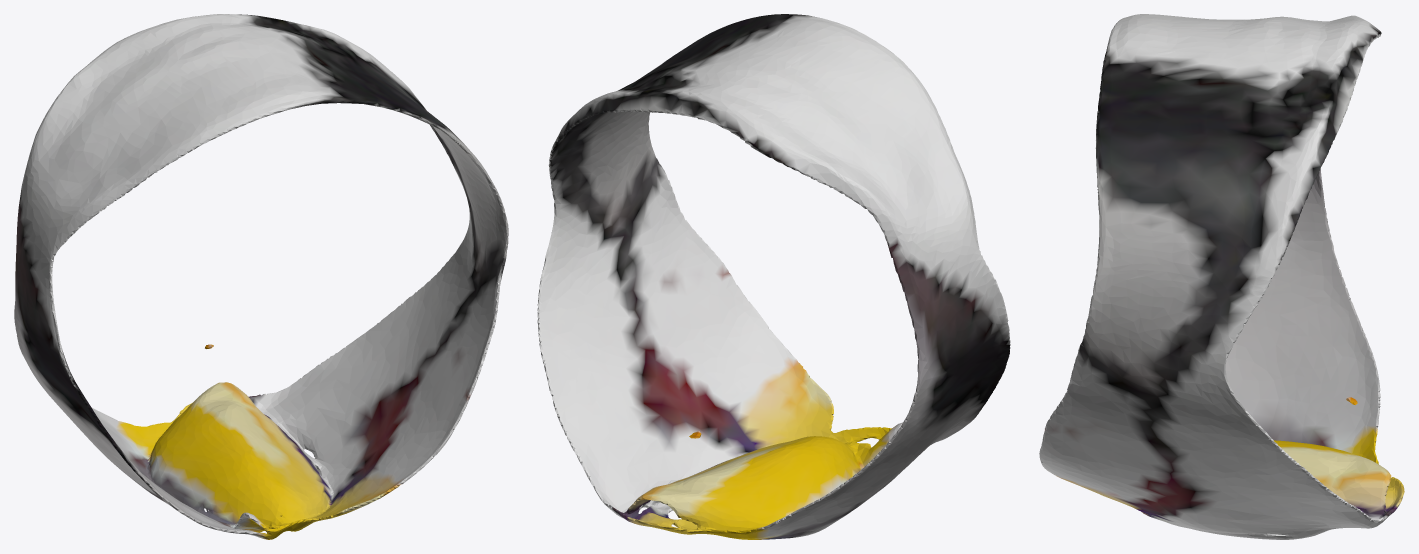
The model's file is ring_thieves.glb.
3 views of the same model, side by side, from view 1: azimuth 30°, elevation 25°; view 2: azimuth 150°, elevation 25°; view 3: azimuth 270°, elevation 25° (orthographic). The views are drawn at different scales.
Parts seen in each view (by area): view 1: geometry_0; view 2: geometry_0; view 3: geometry_0.
Boxes of the visible parts, x1,y1,x2,y2 form: geometry_0: [14, 14, 508, 539]; geometry_0: [537, 14, 1010, 539]; geometry_0: [1039, 14, 1404, 539].
Size of the model in its own units: 0.5938 by 0.5854 by 0.413.
